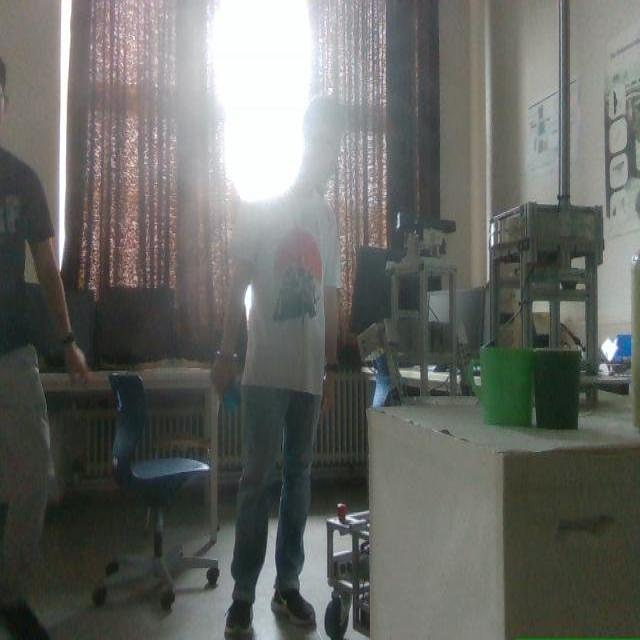humans: (212, 96, 342, 636), (0, 147, 89, 639)
objects: (369, 397, 639, 639), (93, 374, 218, 610), (470, 347, 533, 425), (533, 347, 581, 427)
